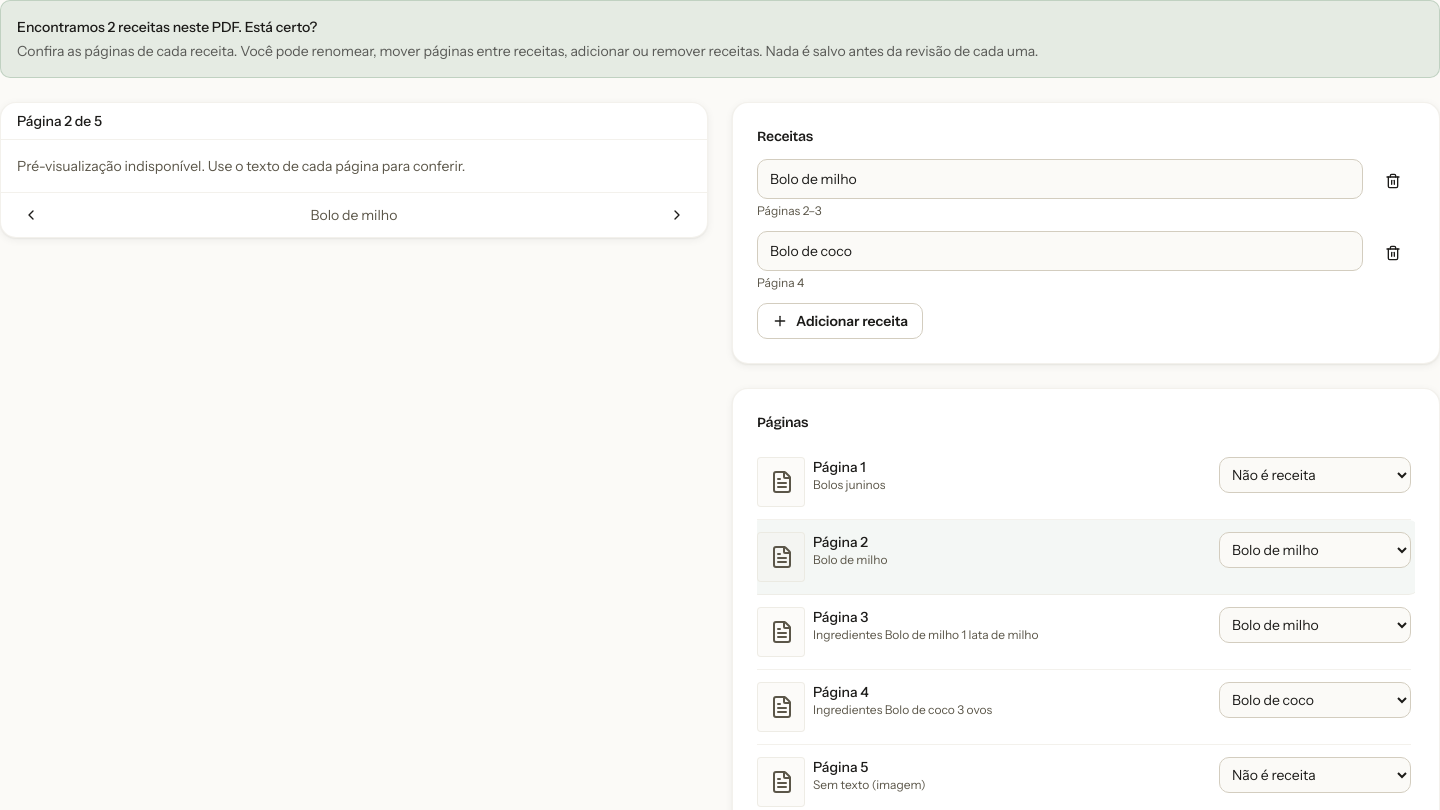
Scenario: PdfImportReview › steps through pages and shows which recipe the current one belongs to
Expected: the text "Página 2 de 5" is shown, [17,111,102,131]
What coordinates should you click on to do the following:
click the button named "Próxima página"
I would click on:
 (677, 215)
Its box is [655,197,699,233].
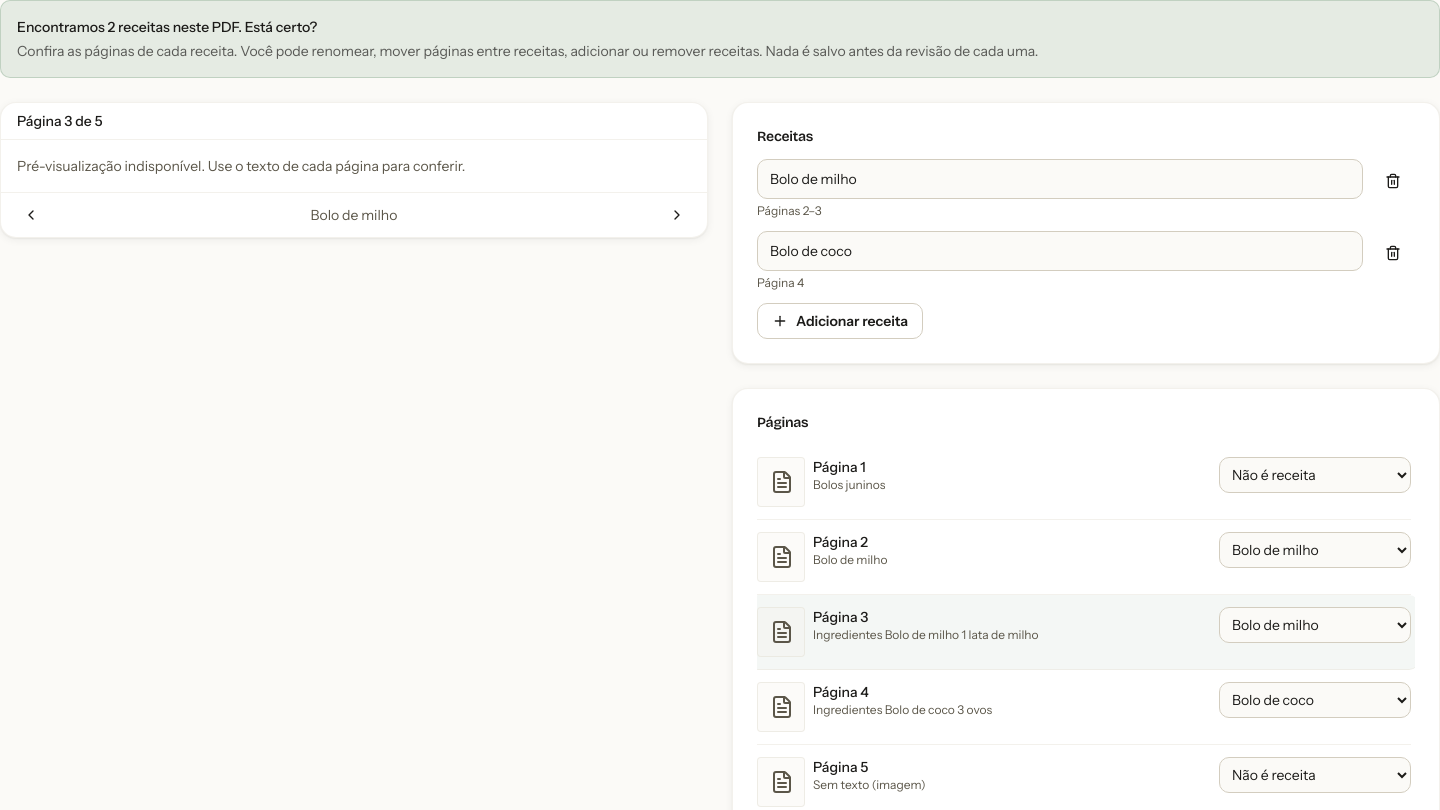
What coordinates should you click on to do the following:
click the button named "Próxima página"
I would click on:
 (677, 215)
Its box is [655,197,699,233].
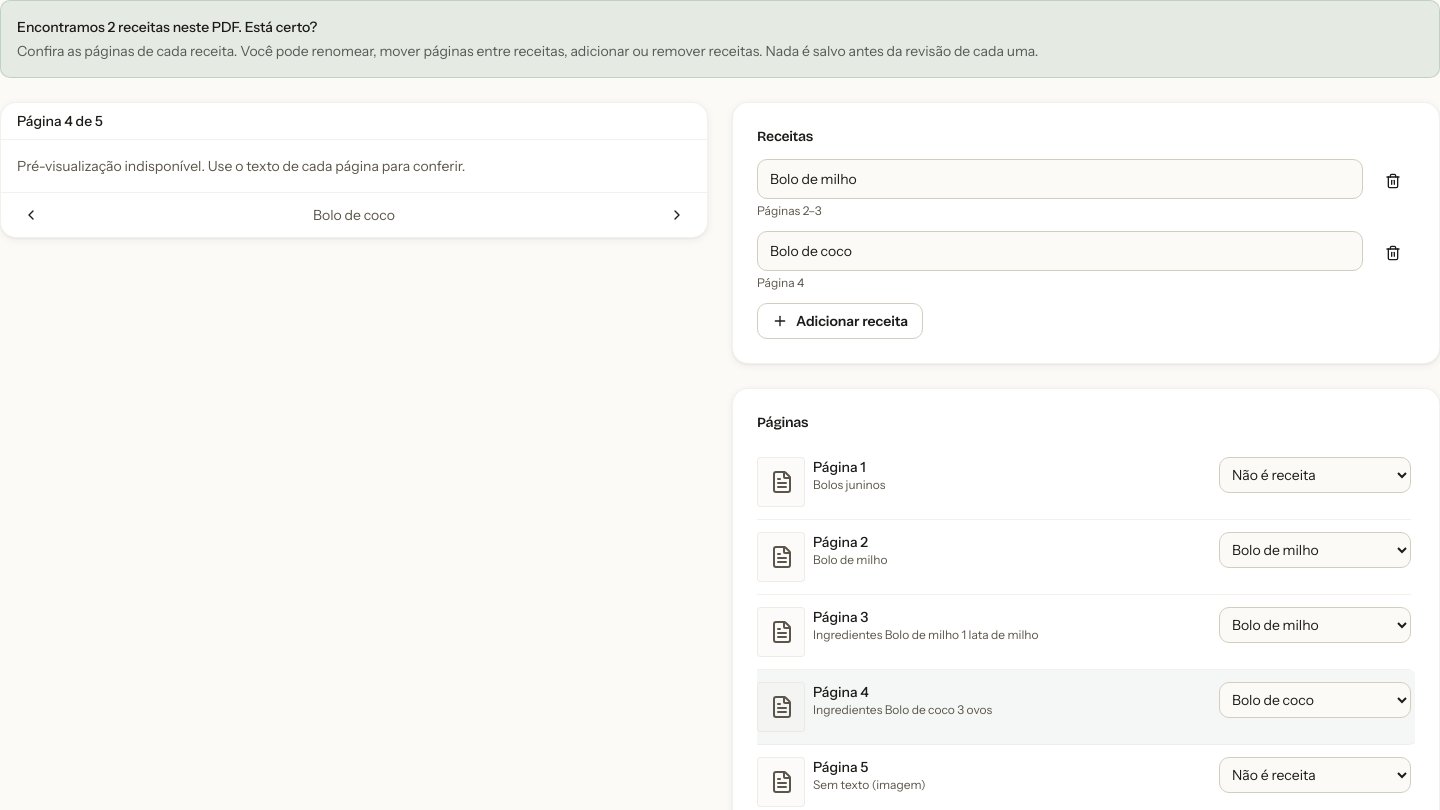
Expected: the text "Página 4 de 5" is shown, [17,111,103,131]
Expected: the text "Bolo de coco" is shown, [313,205,395,225]
